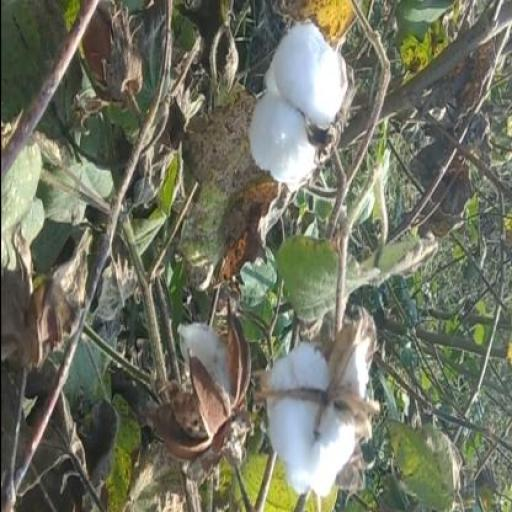cotton_ready: (246, 314, 380, 496), (243, 22, 359, 196)
